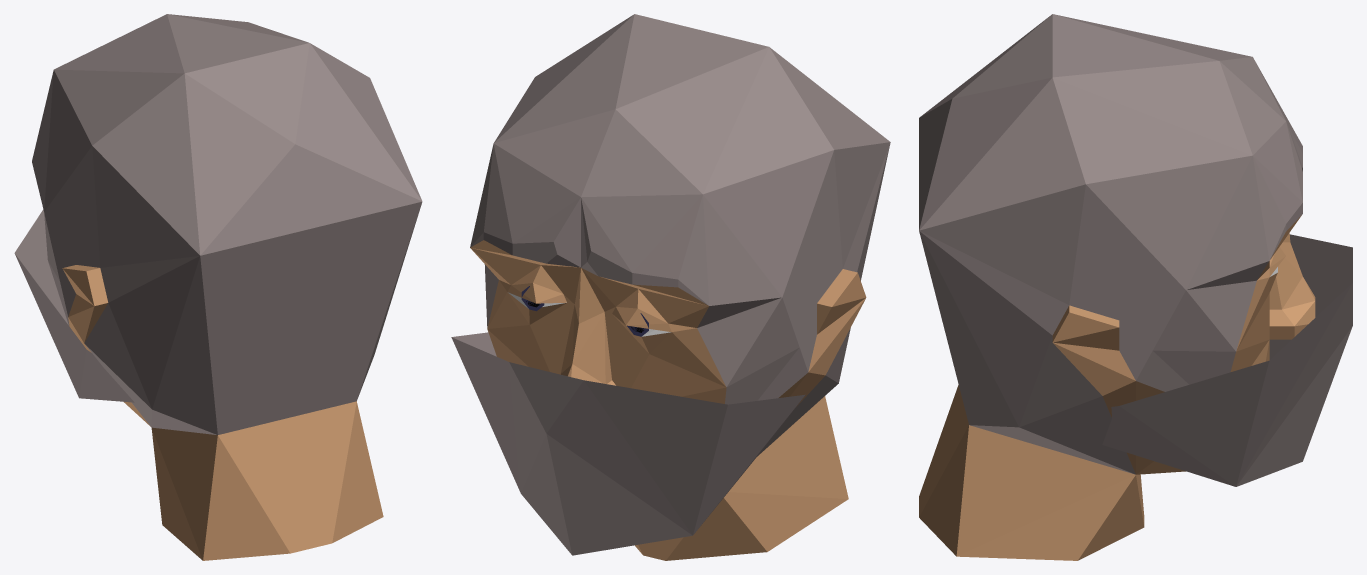
Rendered from npc_chat_sir_mordred_0.obj.
3 renders of one model, left to right at view 1: azimuth 30°, elevation 25°; view 2: azimuth 150°, elevation 25°; view 3: azimuth 270°, elevation 25°, orthographic. The views are drawn at different scales.
Size of the model in its own units: 0.6875 by 0.9844 by 0.8125.
